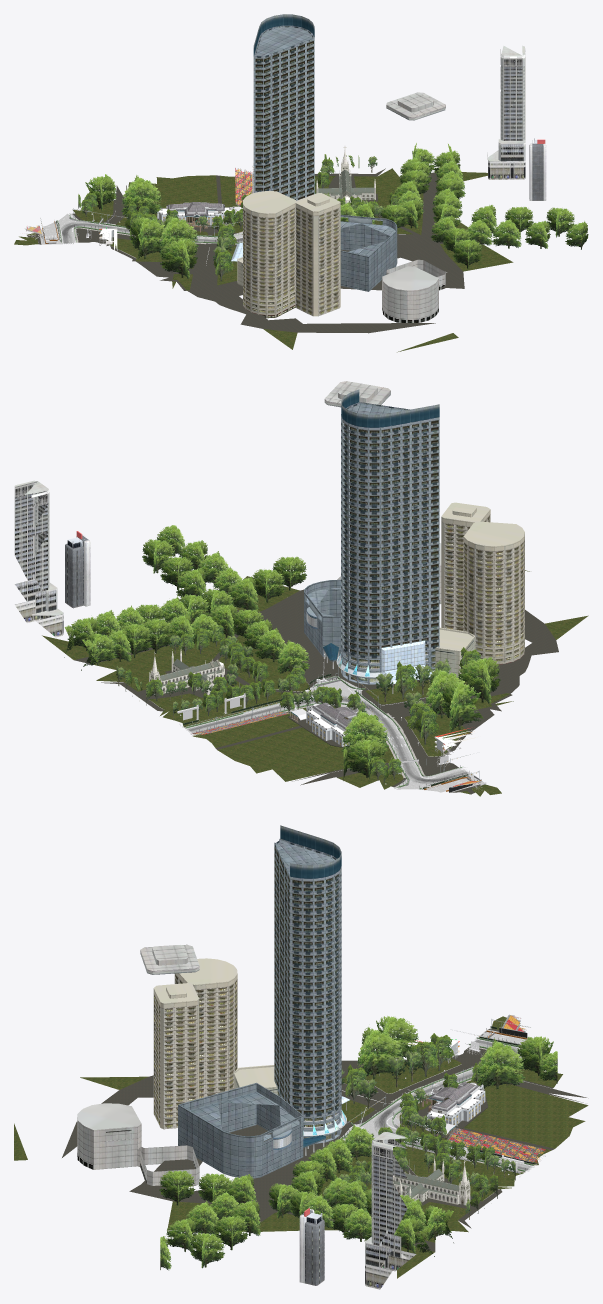
The picture shows the model from 3 angles, top to bottom: view 1: azimuth 30°, elevation 25°; view 2: azimuth 150°, elevation 25°; view 3: azimuth 270°, elevation 25°; orthographic projection. The views are drawn at different scales.
Parts seen in each view (by area): view 1: m14_t05, m71_t05, m41_t05, m96_t05, m97_t05, m29_t05, m40_t05, m70_t05, m20_t05, m16_t05, m15_t05, m9_t05; view 2: m14_t05, m71_t05, m97_t05, m41_t05, m96_t05, m29_t05, m15_t05, m0_t05, m70_t05, m20_t05, m16_t05, m40_t05 (+2 smaller); view 3: m14_t05, m71_t05, m97_t05, m41_t05, m96_t05, m40_t05, m29_t05, m70_t05, m20_t05, m9_t05, m0_t05, m15_t05 (+4 smaller).
Part boxes in pixels (x1=…): m14_t05: x1=78, y1=143, x2=588, y2=281; m71_t05: x1=231, y1=14, x2=397, y2=291; m41_t05: x1=237, y1=191, x2=340, y2=318; m96_t05: x1=27, y1=168, x2=483, y2=333; m97_t05: x1=14, y1=168, x2=513, y2=352; m29_t05: x1=487, y1=45, x2=546, y2=200; m40_t05: x1=382, y1=92, x2=445, y2=322; m70_t05: x1=157, y1=202, x2=240, y2=232; m20_t05: x1=316, y1=146, x2=375, y2=203; m16_t05: x1=39, y1=213, x2=242, y2=244; m15_t05: x1=60, y1=222, x2=242, y2=243; m9_t05: x1=26, y1=168, x2=252, y2=237; m14_t05: x1=64, y1=525, x2=500, y2=785; m71_t05: x1=304, y1=389, x2=439, y2=693; m97_t05: x1=42, y1=570, x2=588, y2=796; m41_t05: x1=435, y1=502, x2=524, y2=677; m96_t05: x1=74, y1=589, x2=558, y2=794; m29_t05: x1=14, y1=480, x2=90, y2=637; m15_t05: x1=186, y1=696, x2=468, y2=784; m0_t05: x1=177, y1=654, x2=486, y2=790; m70_t05: x1=290, y1=702, x2=363, y2=746; m20_t05: x1=149, y1=649, x2=224, y2=694; m16_t05: x1=186, y1=676, x2=484, y2=792; m40_t05: x1=324, y1=381, x2=441, y2=603; m14_t05: x1=159, y1=1016, x2=557, y2=1270; m71_t05: x1=178, y1=825, x2=349, y2=1178; m97_t05: x1=14, y1=1016, x2=588, y2=1278; m41_t05: x1=153, y1=958, x2=277, y2=1129; m96_t05: x1=62, y1=1028, x2=586, y2=1251; m40_t05: x1=77, y1=944, x2=199, y2=1185; m29_t05: x1=299, y1=1132, x2=416, y2=1289; m70_t05: x1=419, y1=1082, x2=485, y2=1138; m20_t05: x1=393, y1=1157, x2=470, y2=1205; m9_t05: x1=449, y1=1015, x2=545, y2=1162; m0_t05: x1=303, y1=1032, x2=533, y2=1177; m15_t05: x1=373, y1=1039, x2=534, y2=1171.
Size of the model in its own units: 575 by 278 by 513.
Materials: 32 (31 with a texture image).
